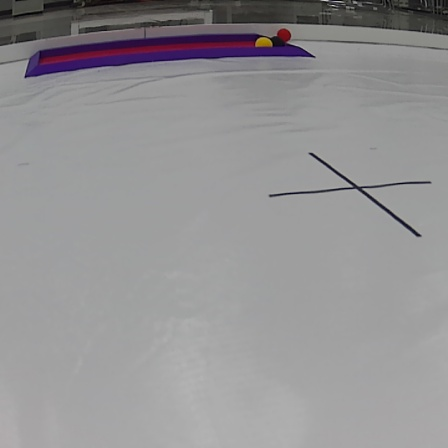black: (271, 36, 285, 47)
red: (278, 29, 292, 38)
red_aim: (29, 28, 315, 74)
yellow: (254, 38, 271, 47)
